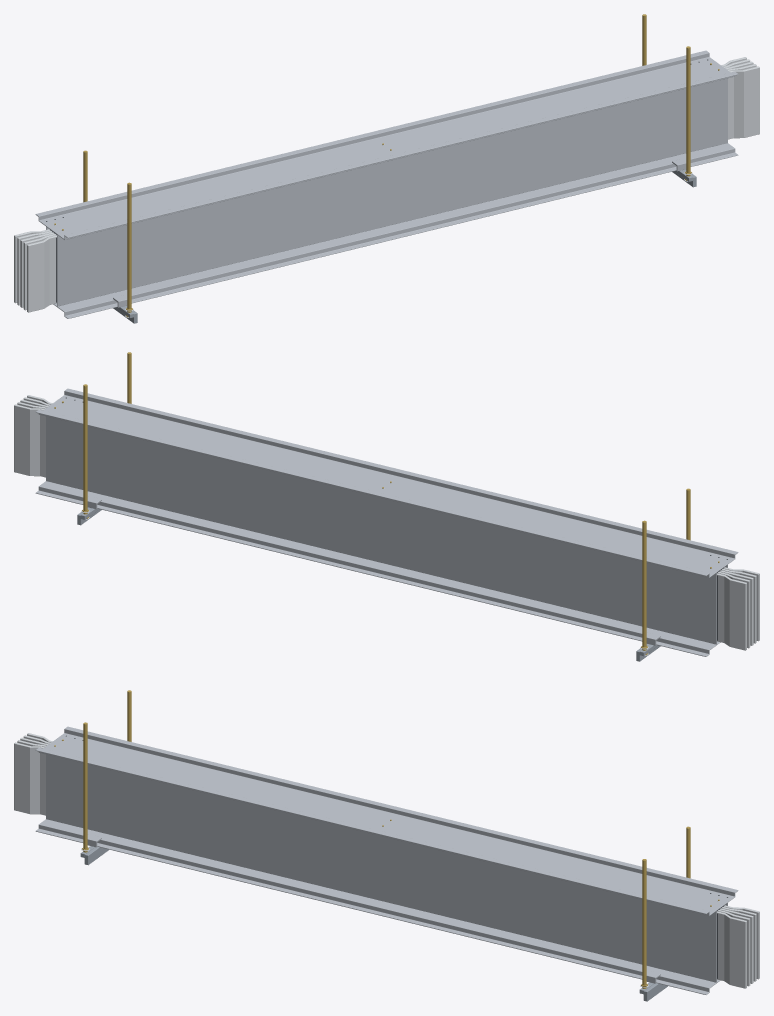
File: horizontal-support.glb
The picture shows the model from 3 angles, top to bottom: view 1: azimuth 30°, elevation 25°; view 2: azimuth 150°, elevation 25°; view 3: azimuth 330°, elevation 25°; orthographic projection.
Parts seen in each view (by area): view 1: Recessed side sheet, Continuous folded upper profile, Continuous folded lower profile, Blade 1 plated spread terminal.001, Blade 1 plated spread terminal, M10 hanger rod, M10 hanger rod.002; view 2: Recessed side sheet.001, Continuous folded upper profile, Continuous folded lower profile, Blade 5 plated spread terminal.001, Blade 5 plated spread terminal, M10 hanger rod.001, M10 hanger rod.003; view 3: Recessed side sheet, Continuous folded upper profile, Continuous folded lower profile, Blade 1 plated spread terminal, Blade 1 plated spread terminal.001, M10 hanger rod.002, M10 hanger rod.
Part boxes in pixels (box(x1,y1,x2,y2)): Recessed side sheet: box(57, 78, 727, 306); Continuous folded upper profile: box(35, 50, 738, 239); Continuous folded lower profile: box(53, 143, 738, 318); Blade 1 plated spread terminal.001: box(728, 66, 759, 139); Blade 1 plated spread terminal: box(27, 235, 56, 312); M10 hanger rod: box(127, 182, 131, 312); M10 hanger rod.002: box(686, 46, 690, 176); Recessed side sheet.001: box(46, 416, 716, 644); Continuous folded upper profile: box(35, 388, 738, 577); Continuous folded lower profile: box(35, 481, 720, 656); Blade 5 plated spread terminal.001: box(14, 404, 45, 477); Blade 5 plated spread terminal: box(717, 573, 746, 650); M10 hanger rod.001: box(642, 520, 646, 650); M10 hanger rod.003: box(83, 384, 87, 514); Recessed side sheet: box(46, 754, 716, 982); Continuous folded upper profile: box(35, 726, 738, 915); Continuous folded lower profile: box(35, 819, 720, 994); Blade 1 plated spread terminal: box(14, 742, 45, 815); Blade 1 plated spread terminal.001: box(717, 911, 746, 988); M10 hanger rod.002: box(642, 859, 646, 988); M10 hanger rod: box(83, 722, 87, 852).
Bounding box in the file's own units: 1.96 × 0.3555 × 0.23.
